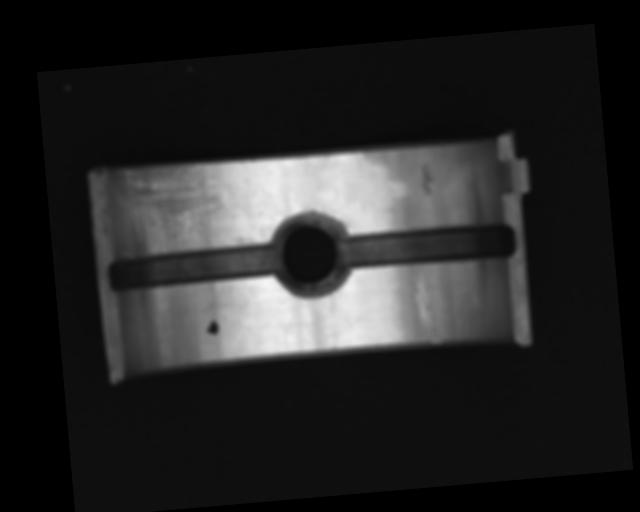blot: (204, 318, 220, 337)
bruise: (415, 161, 437, 197)
gap: (337, 219, 516, 274), (106, 242, 283, 292)
hole: (268, 210, 351, 299)
nick: (412, 271, 442, 345)
scratch: (109, 158, 235, 255)
